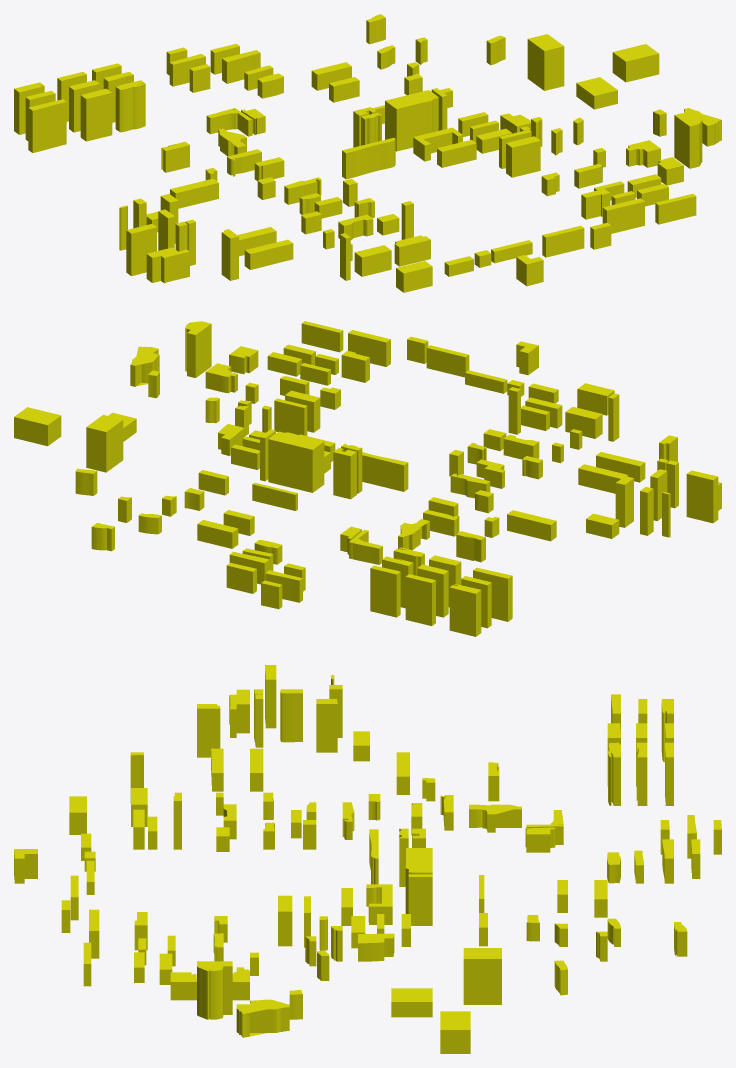
File: ZhouBian01.fbx
3 views of the same model, one above another, from view 1: azimuth 30°, elevation 25°; view 2: azimuth 150°, elevation 25°; view 3: azimuth 270°, elevation 25° (orthographic). The views are drawn at different scales.
Parts seen in each view (by area): view 1: ZhouBian01; view 2: ZhouBian01; view 3: ZhouBian01.
Boxes of the visible parts, <box> form: ZhouBian01: <box>14,14,721,292</box>; ZhouBian01: <box>14,321,721,636</box>; ZhouBian01: <box>14,665,721,1053</box>.
Bounding box in the file's own units: 2717 × 189 × 2401.
